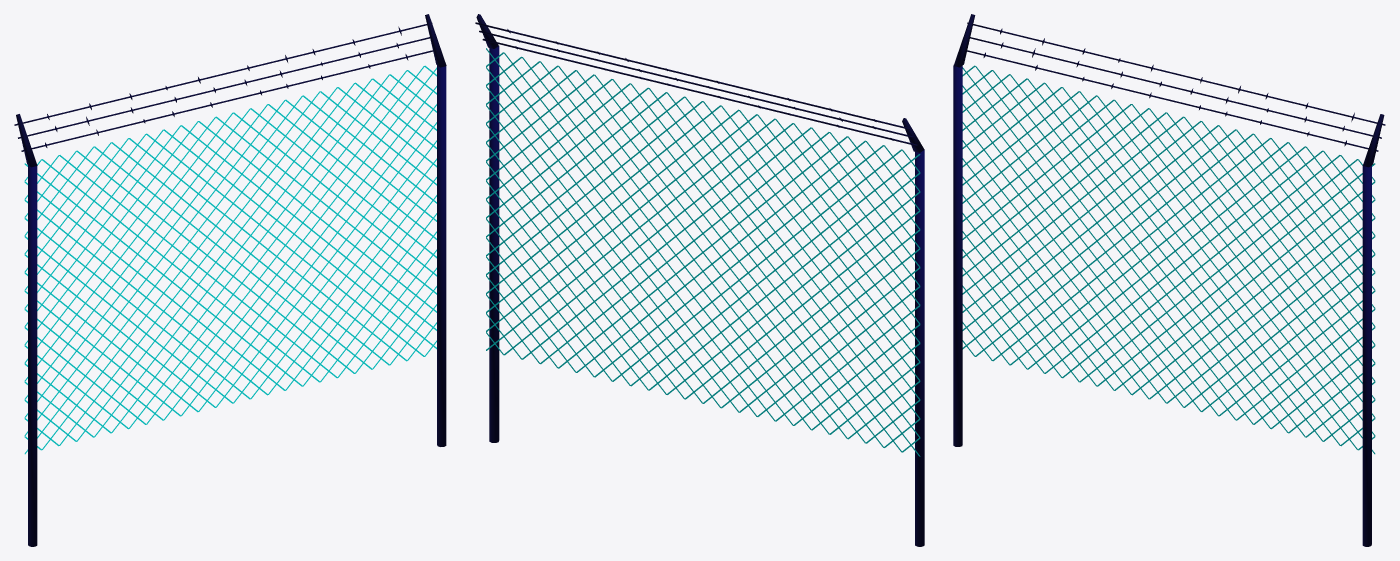
The model's file is furnishings-barriers-barbedfence_v1.fbx.
3 renders of one model, left to right at view 1: azimuth 30°, elevation 25°; view 2: azimuth 150°, elevation 25°; view 3: azimuth 330°, elevation 25°, orthographic. The views are drawn at different scales.
Visible parts, largest first — view 1: BarbedFence_DblSided, BarbedFence_base; view 2: BarbedFence_DblSided, BarbedFence_base; view 3: BarbedFence_DblSided, BarbedFence_base.
Part boxes in pixels (x1,y1,x2,y2): BarbedFence_DblSided: [24, 65, 436, 454]; BarbedFence_base: [14, 14, 446, 546]; BarbedFence_DblSided: [486, 48, 920, 456]; BarbedFence_base: [475, 14, 924, 546]; BarbedFence_DblSided: [962, 65, 1375, 454]; BarbedFence_base: [953, 14, 1385, 546].
Bounding box in the file's own units: 3.83 × 3.69 × 0.291.
